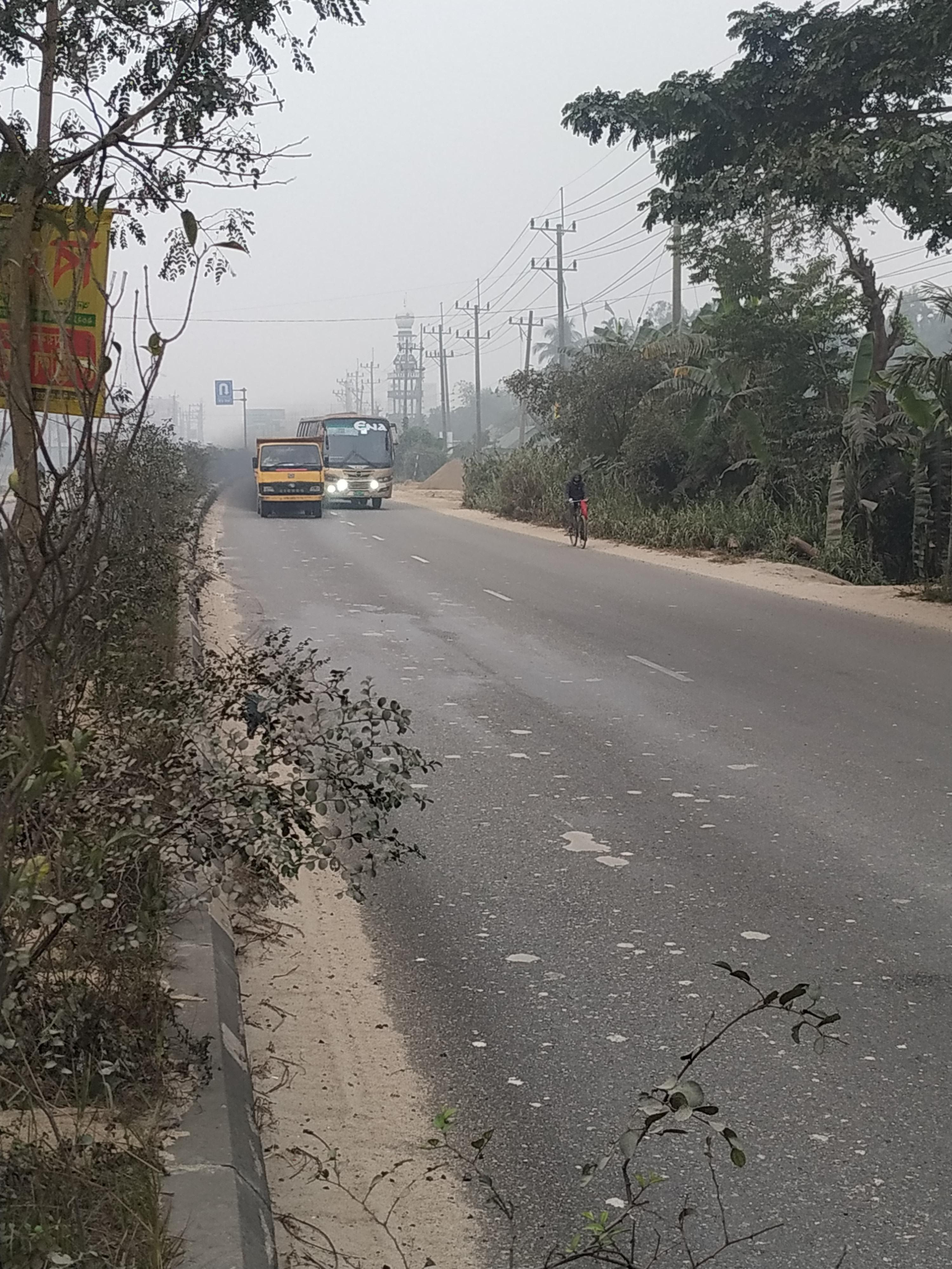Bus: (291, 397, 438, 544)
Truck: (236, 432, 345, 542)
